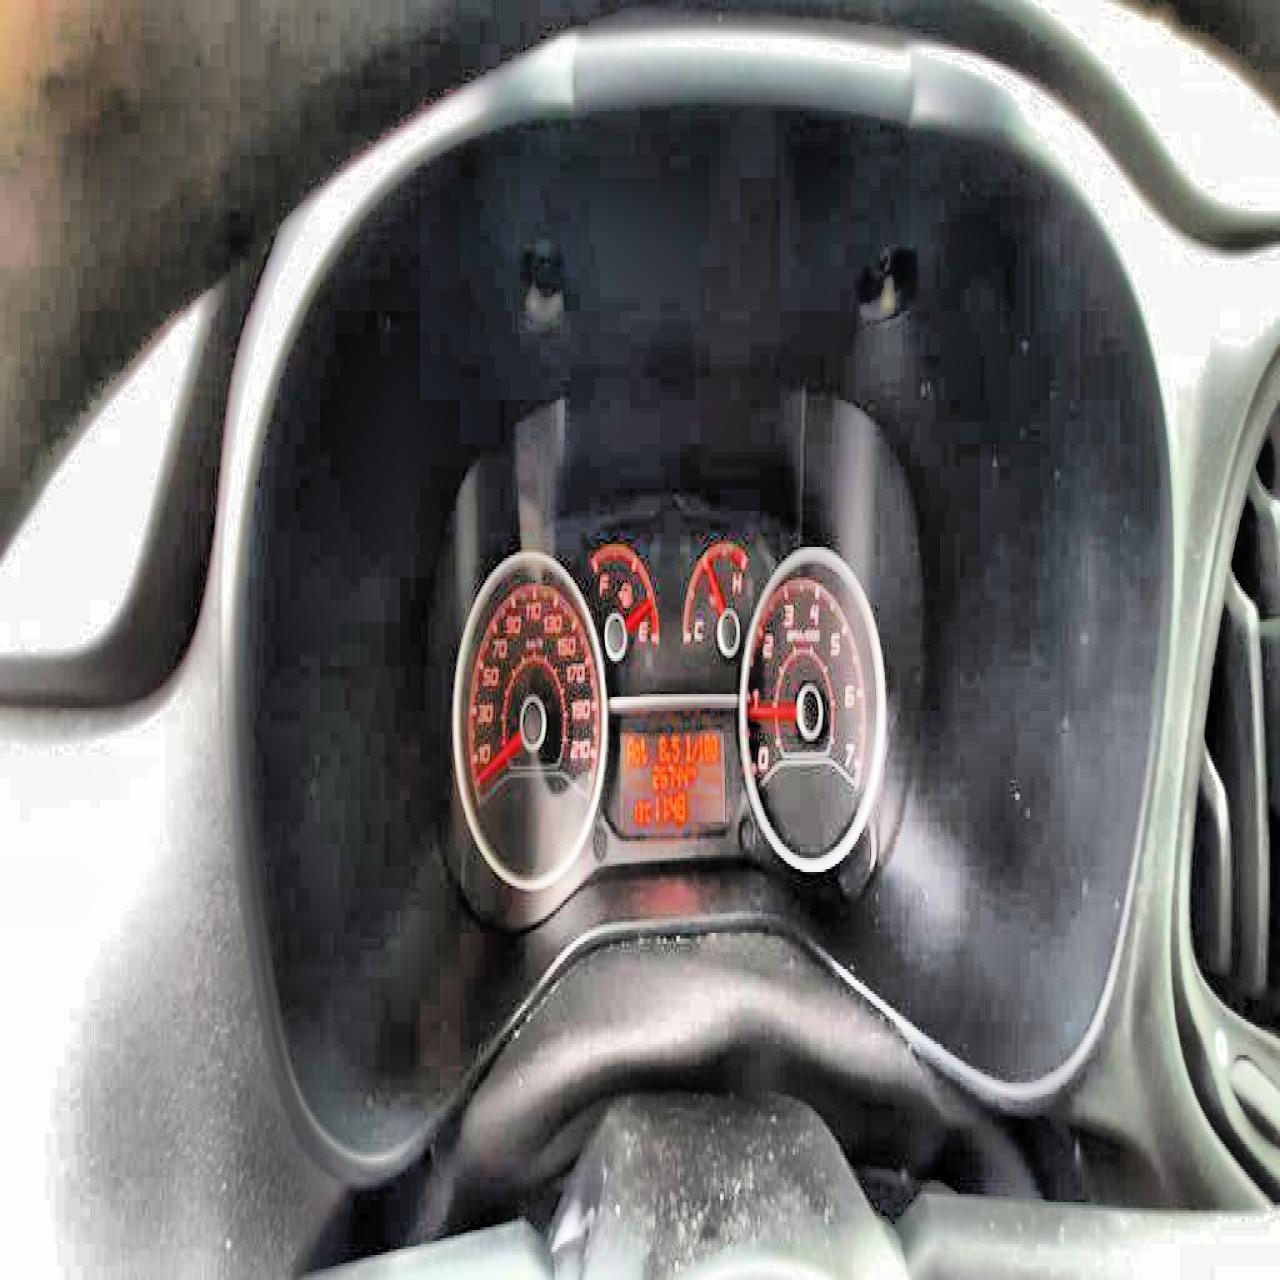-: (665, 749, 669, 761)
0: (702, 733, 710, 758), (709, 733, 716, 758)
1: (697, 733, 702, 758), (654, 794, 659, 819), (633, 799, 638, 822), (661, 791, 665, 819)
2: (653, 763, 659, 785)
3: (638, 799, 641, 822)
4: (667, 791, 676, 819), (674, 764, 680, 783), (680, 764, 686, 783)
5: (670, 733, 679, 761)
6: (659, 763, 666, 785)
7: (667, 763, 673, 785)
8: (658, 733, 665, 761), (676, 791, 683, 819)
X: (625, 735, 633, 763), (640, 735, 646, 763), (685, 730, 690, 758), (632, 741, 640, 761), (690, 736, 697, 758), (644, 799, 648, 822), (667, 794, 667, 816)
odometer: (618, 722, 728, 833)
